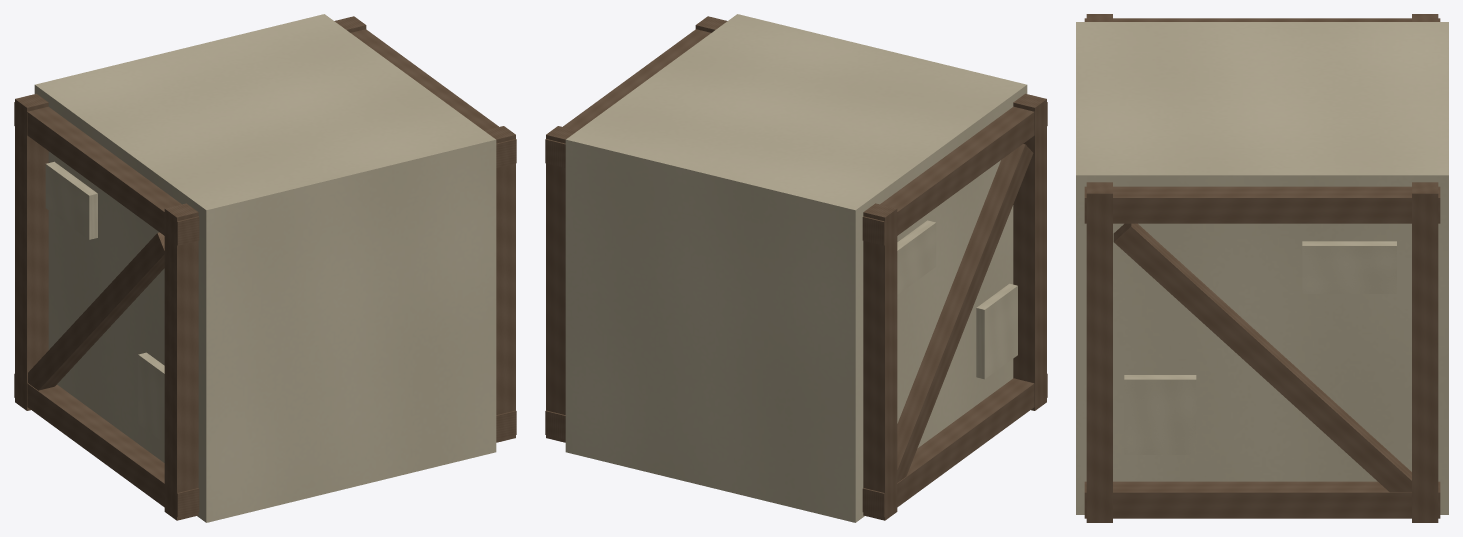
Rendered from lime_wall_x.glb.
3 views of the same model, side by side, from view 1: azimuth 30°, elevation 25°; view 2: azimuth 150°, elevation 25°; view 3: azimuth 270°, elevation 25° (orthographic). The views are drawn at different scales.
Visible parts, largest first — view 1: G3_lime_x; view 2: G3_lime_x; view 3: G3_lime_x.
Part boxes in pixels (x1,y1,x2,y2): G3_lime_x: (14, 14, 516, 522); G3_lime_x: (545, 14, 1047, 522); G3_lime_x: (1076, 14, 1448, 522).
Bounding box in the file's own units: 1.12 × 0.99 × 0.985.
Materials: 2 (2 with a texture image).
